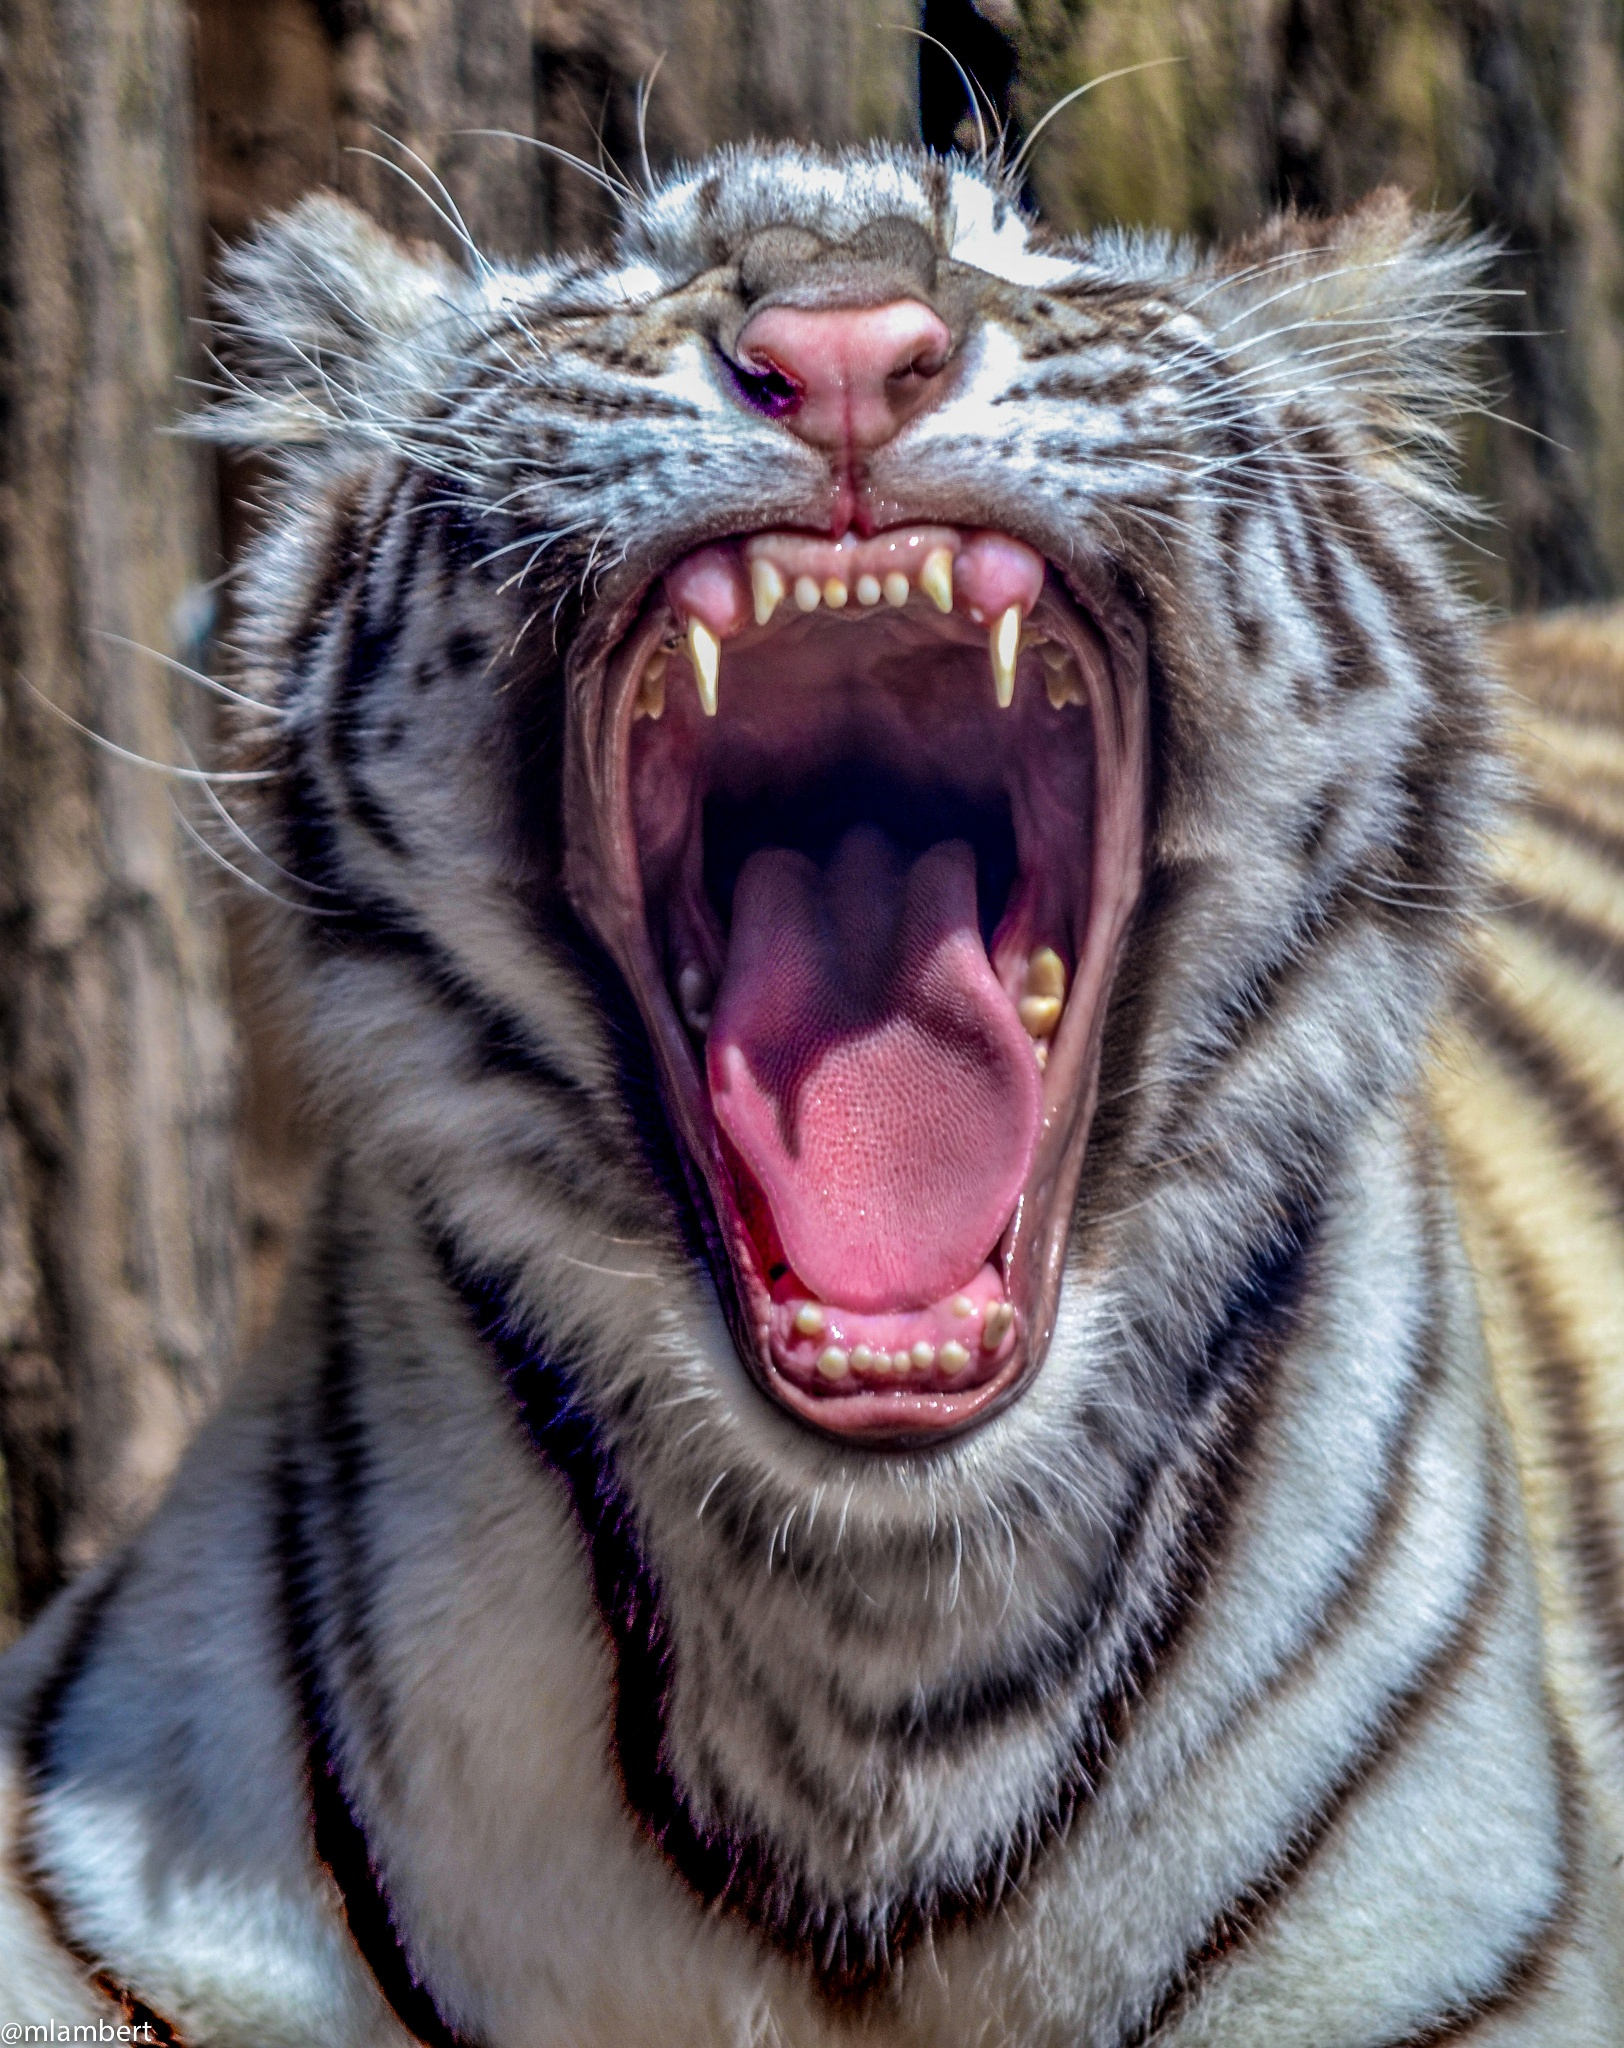tiger: (185, 126, 1569, 1980)
